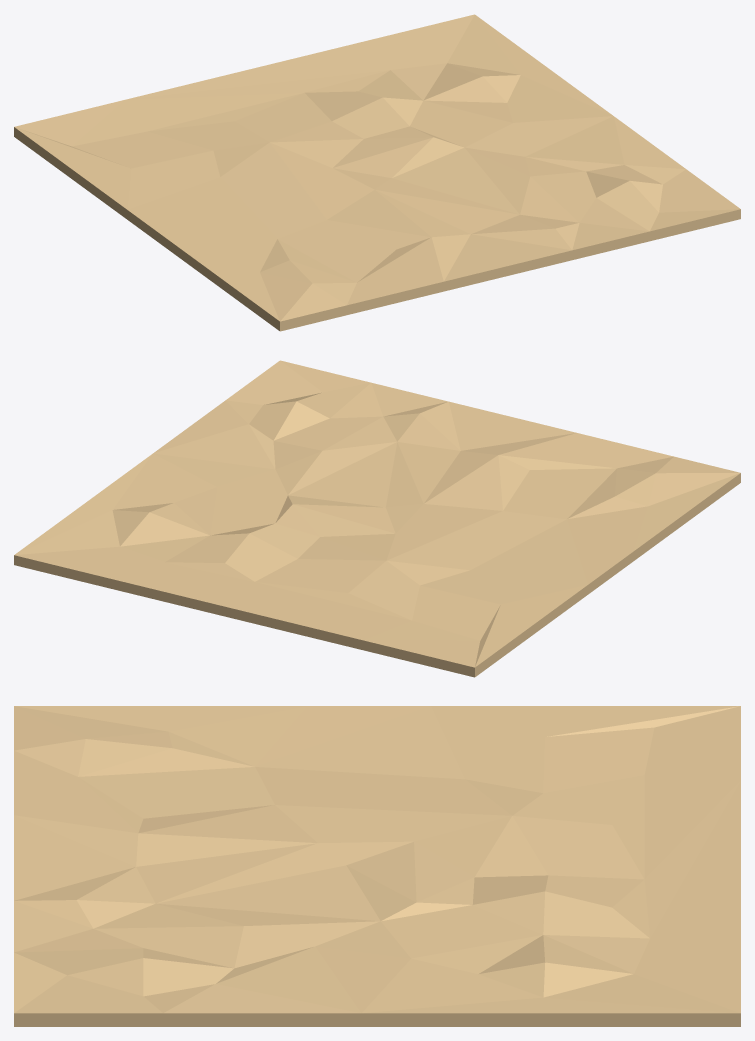
File: Sand.fbx
The picture shows the model from 3 angles, top to bottom: view 1: azimuth 30°, elevation 25°; view 2: azimuth 150°, elevation 25°; view 3: azimuth 270°, elevation 25°; orthographic projection. The views are drawn at different scales.
Visible parts, largest first — view 1: Sand; view 2: Sand; view 3: Sand.
Boxes of the visible parts, left/top/right/bottom form: Sand: left=14, top=14, right=740, bottom=331; Sand: left=14, top=360, right=740, bottom=677; Sand: left=14, top=706, right=740, bottom=1026.
Bounding box in the file's own units: 500 × 19.96 × 500.
